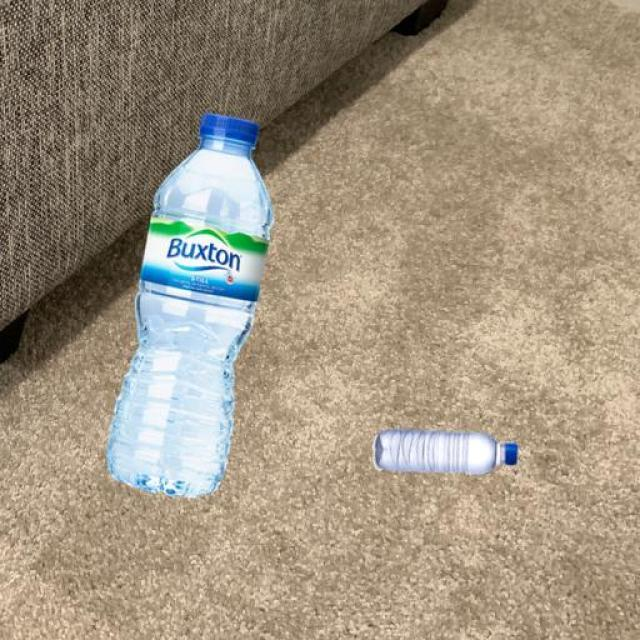bottle: (104, 111, 274, 498), (371, 428, 519, 477)
